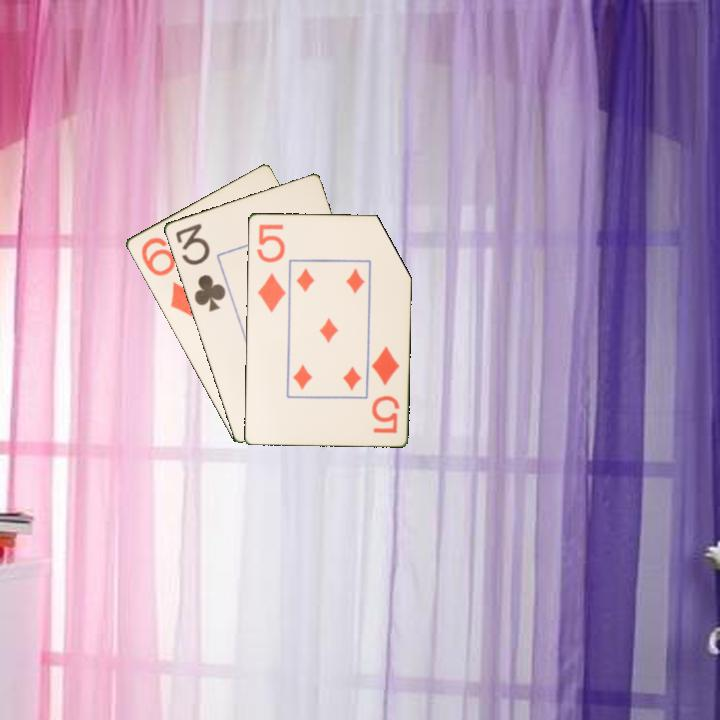3c: (172, 219, 228, 314)
5d: (253, 220, 288, 315), (368, 343, 402, 436)
6d: (137, 233, 199, 320)
